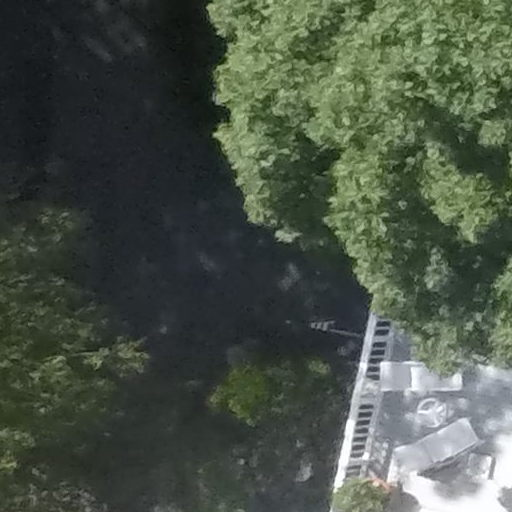chair: (387, 406, 497, 491), (383, 342, 468, 397)
flower pot: (355, 476, 393, 509)
